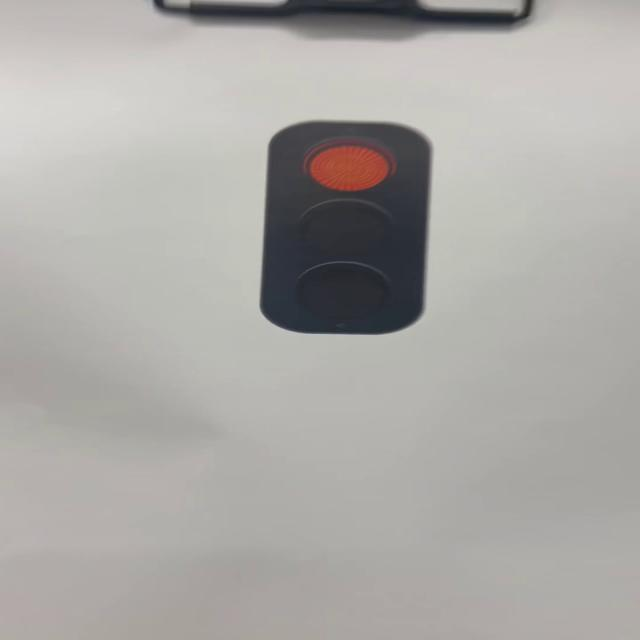red: (254, 121, 437, 334)
